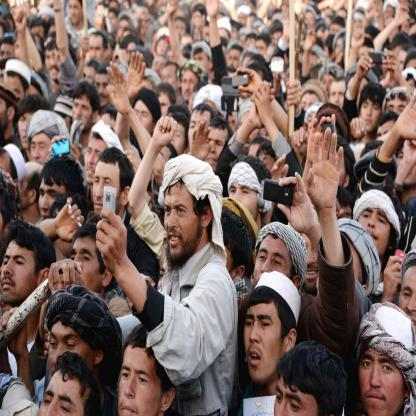face: (361, 340, 406, 416), (49, 325, 95, 392), (244, 301, 282, 382), (165, 181, 203, 258), (120, 349, 162, 416), (255, 235, 289, 300), (2, 239, 35, 302), (296, 223, 327, 290), (69, 238, 102, 297), (275, 375, 321, 416), (40, 375, 84, 416), (39, 173, 68, 229), (229, 171, 258, 227), (359, 204, 391, 254), (94, 163, 122, 216), (85, 136, 112, 183), (29, 129, 56, 171), (402, 269, 416, 341), (206, 126, 227, 172), (387, 96, 410, 135), (190, 112, 211, 154), (5, 75, 27, 114), (18, 109, 40, 148), (73, 92, 94, 131), (361, 92, 381, 132), (240, 113, 258, 155), (134, 103, 154, 140), (379, 124, 400, 159), (170, 119, 187, 159), (399, 145, 415, 184), (54, 106, 72, 137), (258, 152, 276, 183), (331, 83, 348, 115), (96, 74, 112, 106), (321, 71, 337, 103), (157, 89, 172, 123), (193, 49, 210, 79), (303, 93, 320, 122), (90, 37, 105, 67), (1, 44, 17, 72), (336, 208, 352, 236), (51, 50, 65, 80), (164, 68, 178, 97), (182, 69, 194, 102), (227, 52, 241, 79), (308, 112, 321, 139), (154, 59, 168, 83), (15, 38, 28, 63), (174, 20, 186, 47), (46, 48, 58, 74), (226, 113, 239, 137), (84, 70, 97, 93), (141, 18, 154, 41), (70, 1, 82, 24), (384, 51, 396, 74), (158, 36, 170, 58), (200, 28, 213, 47), (257, 40, 268, 62), (336, 38, 347, 60), (399, 53, 411, 73), (119, 19, 129, 39), (97, 8, 106, 30), (333, 23, 343, 42), (193, 11, 203, 29), (306, 12, 316, 30), (318, 24, 327, 44), (109, 12, 118, 31), (127, 46, 137, 62), (407, 75, 416, 92), (274, 32, 283, 48), (245, 39, 255, 53), (241, 34, 249, 51), (354, 17, 363, 32), (375, 2, 383, 18), (239, 11, 247, 26), (194, 28, 201, 45), (232, 25, 239, 41)
